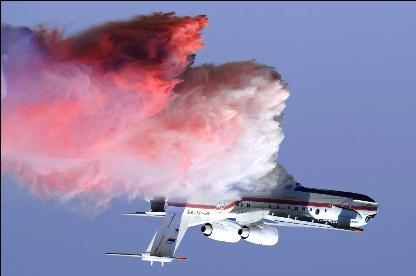B52: (100, 181, 379, 264)
